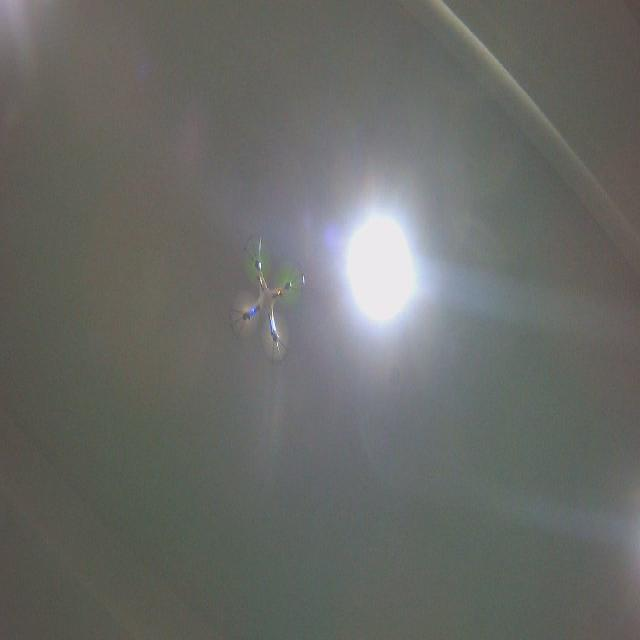drone: (227, 229, 308, 367)
